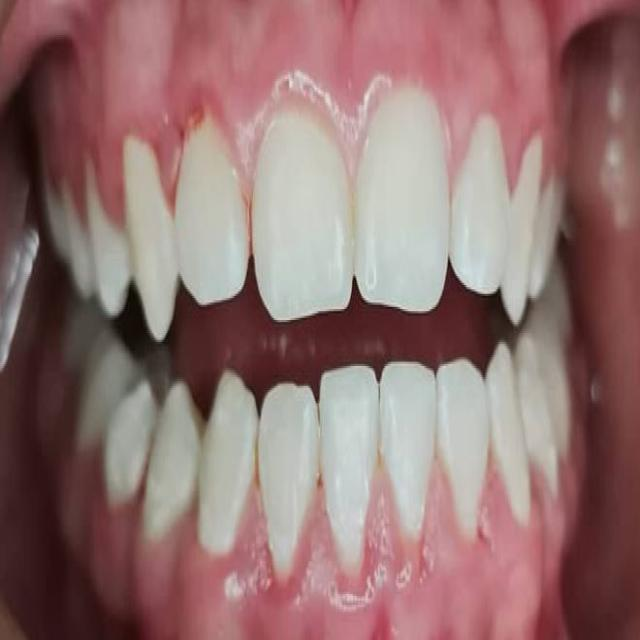1st Molar: (79, 333, 137, 449), (548, 261, 574, 344), (43, 187, 65, 255)
1st Premolar: (144, 381, 204, 540), (86, 153, 131, 318), (515, 330, 560, 489), (529, 173, 560, 302)
2nd Molar: (65, 298, 104, 376)
2nd Premolar: (105, 383, 158, 513), (527, 300, 572, 452), (63, 193, 93, 297)
Canine: (122, 128, 178, 344), (199, 370, 259, 559), (503, 125, 545, 329), (486, 341, 531, 528)
Central Incisor: (252, 101, 355, 324), (354, 88, 450, 315), (320, 366, 380, 579), (380, 362, 438, 555)
Lateral Incisor: (174, 107, 252, 309), (258, 384, 320, 587), (449, 114, 509, 296), (436, 356, 491, 546)
